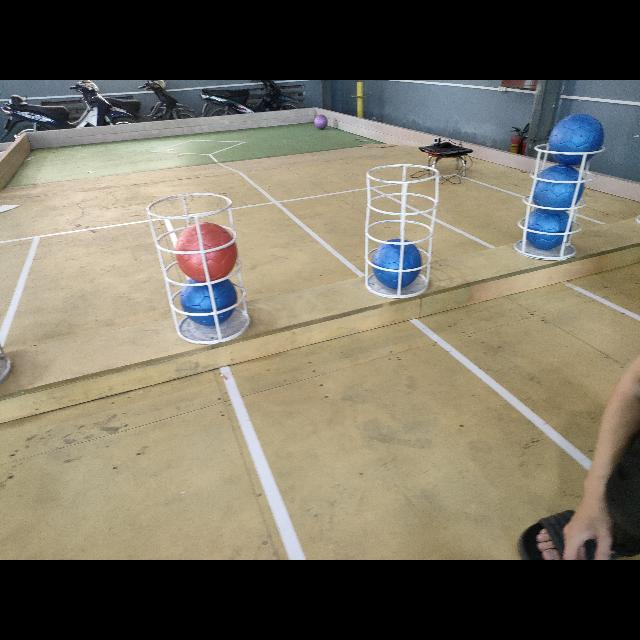B: (549, 113, 605, 167), (180, 277, 236, 327), (372, 240, 422, 290), (534, 166, 582, 210), (525, 208, 571, 248)
R: (176, 222, 238, 280)
